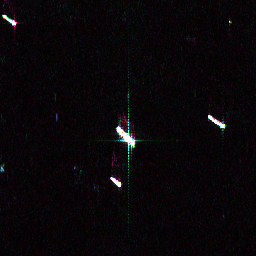ship: (112, 123, 139, 149), (205, 111, 228, 131), (107, 173, 124, 190), (1, 12, 18, 28)
